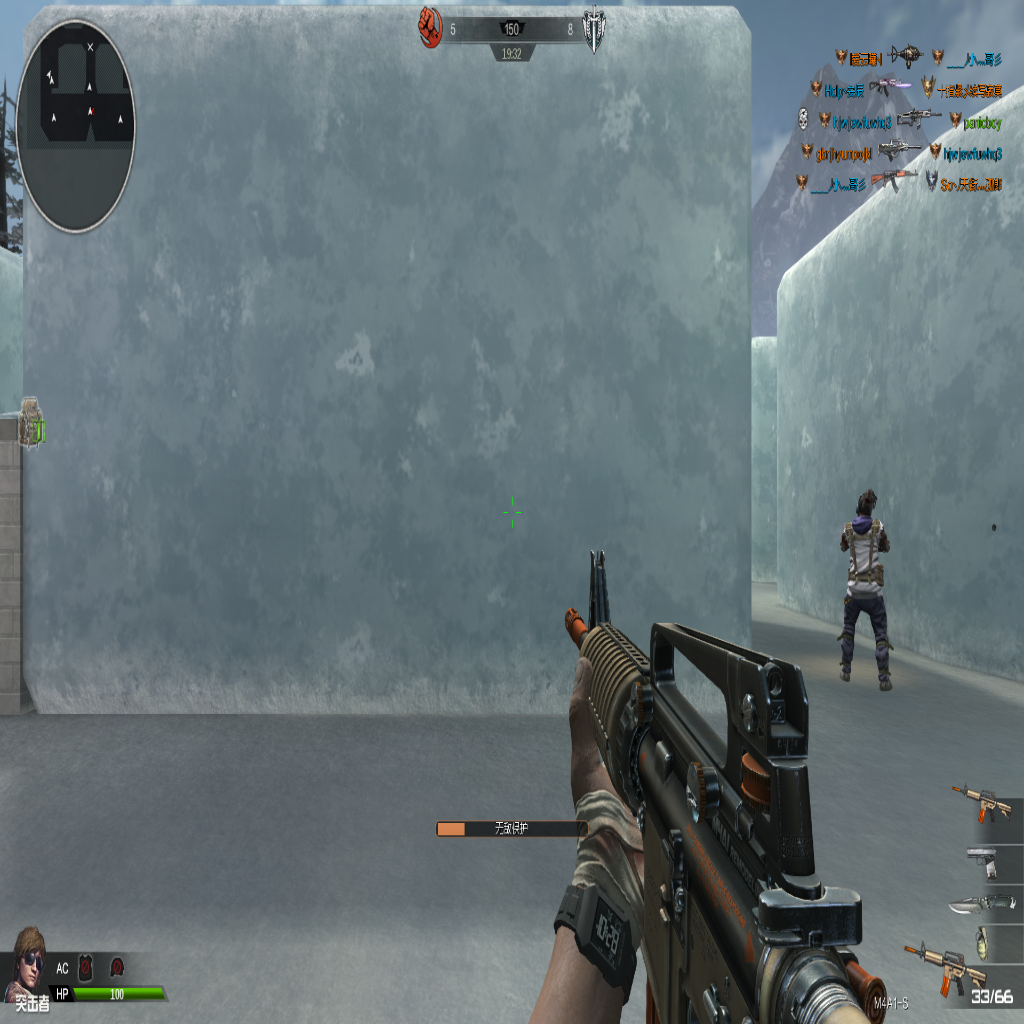tt: (837, 485, 895, 696)
